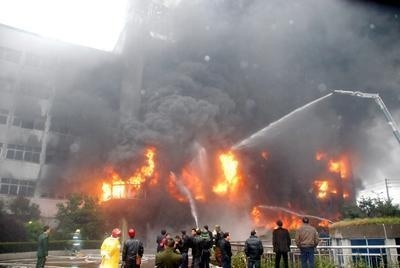fire: (95, 143, 248, 201), (98, 146, 158, 201), (313, 155, 351, 199), (250, 204, 305, 229), (212, 150, 239, 195)
